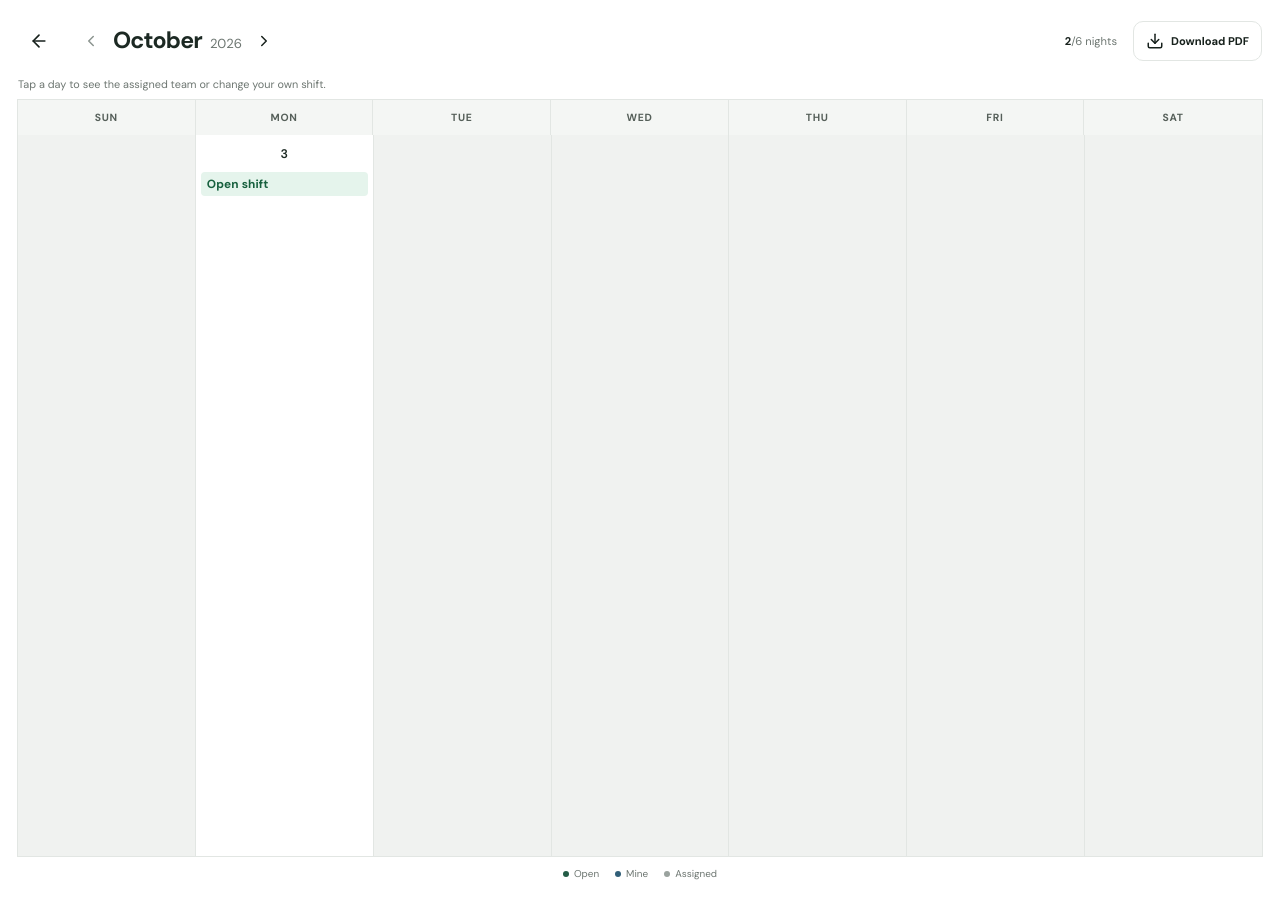
Test case: Schedule page month window › allows the current month and the next two months only
Expected: the button with aria-label "Download schedule PDF" is enabled, [1133,21,1262,61]
Expected: the button named "Previous month" is disabled, [74,24,108,58]
Click the button named "Next month". click: (264, 41)
box: [247,24,281,58]
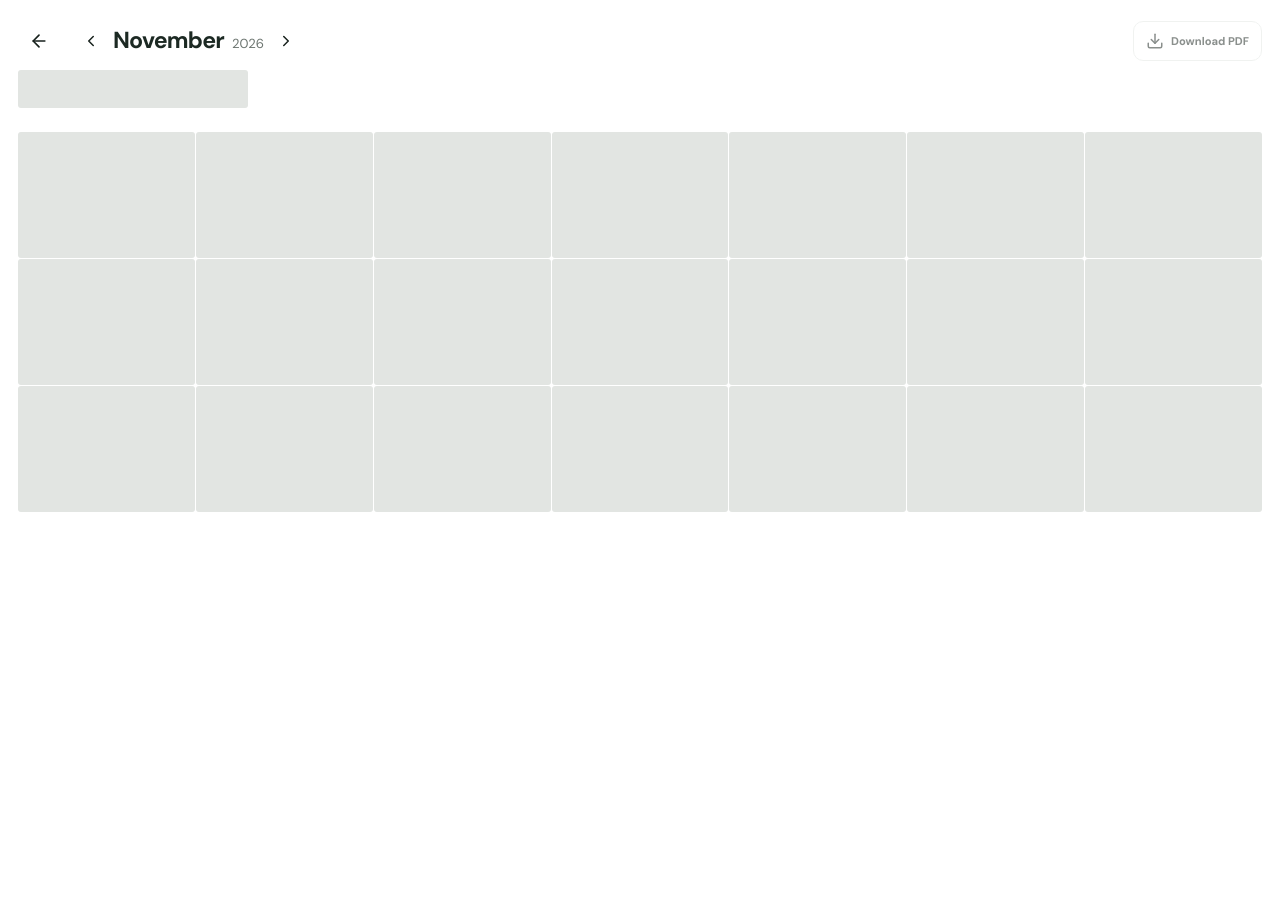
Click the button named "Next month". click: (286, 41)
box: [269,24,303,58]
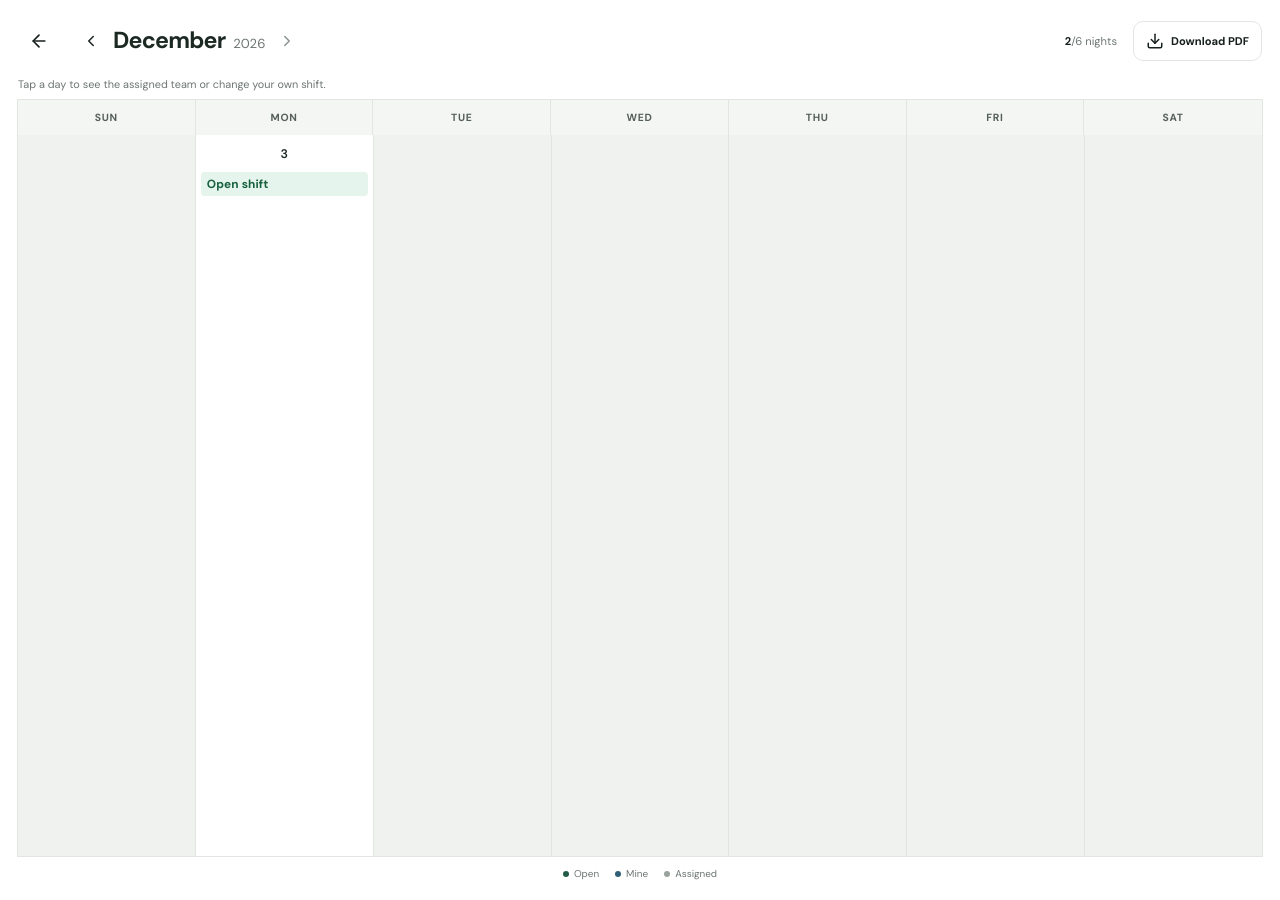
Expected: the button named "Previous month" is enabled, [74,24,108,58]
Expected: the button named "Next month" is disabled, [270,24,304,58]
